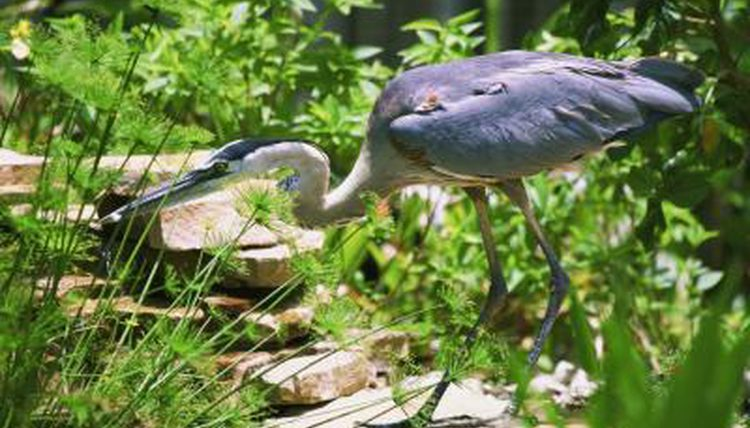heron: (90, 42, 686, 371)
